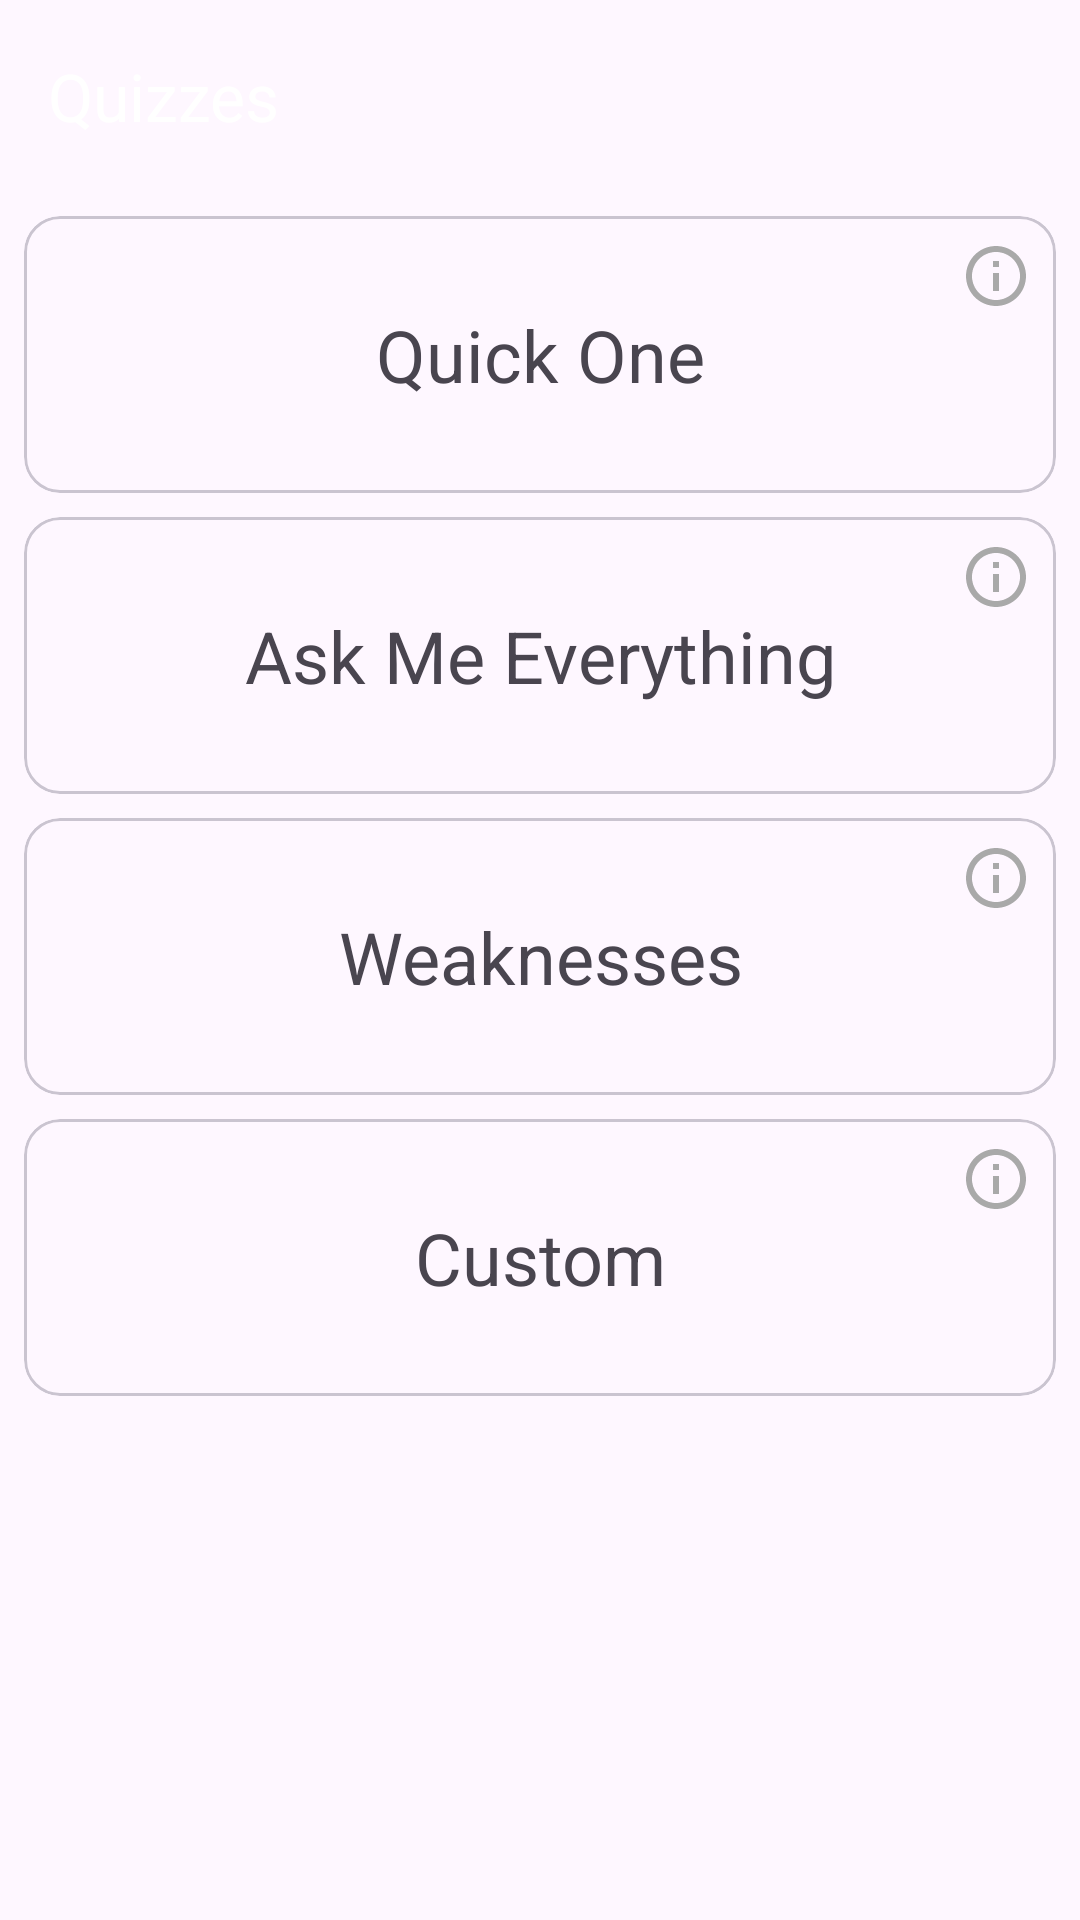

Point at icon controls on the screen. Image size 1080 × 1920, points as (x=x, y=y).
info: (x=996, y=276), (x=996, y=577), (x=996, y=878), (x=996, y=1179)
